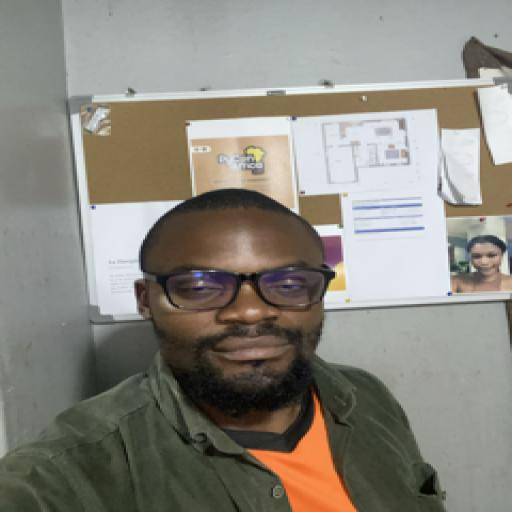JEANLUC: (152, 195, 346, 410)
